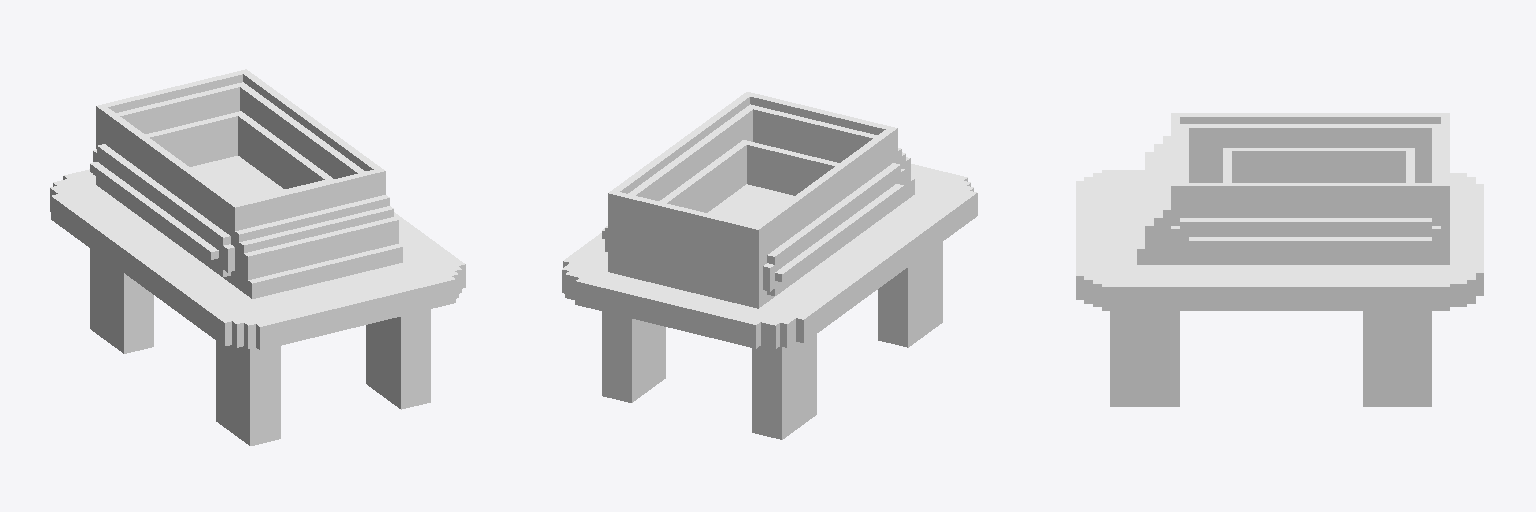
Rendered from blood_device_empty.obj.
3 views of the same model, side by side, from view 1: azimuth 30°, elevation 25°; view 2: azimuth 150°, elevation 25°; view 3: azimuth 270°, elevation 25° (orthographic).
Parts seen in each view (by area): view 1: blood_device_empty; view 2: blood_device_empty; view 3: blood_device_empty.
Boxes of the visible parts, x1=… form: blood_device_empty: x1=50, y1=69, x2=465, y2=445; blood_device_empty: x1=562, y1=92, x2=977, y2=439; blood_device_empty: x1=1076, y1=113, x2=1483, y2=406.
Bounding box in the file's own units: 32 × 27 × 47.